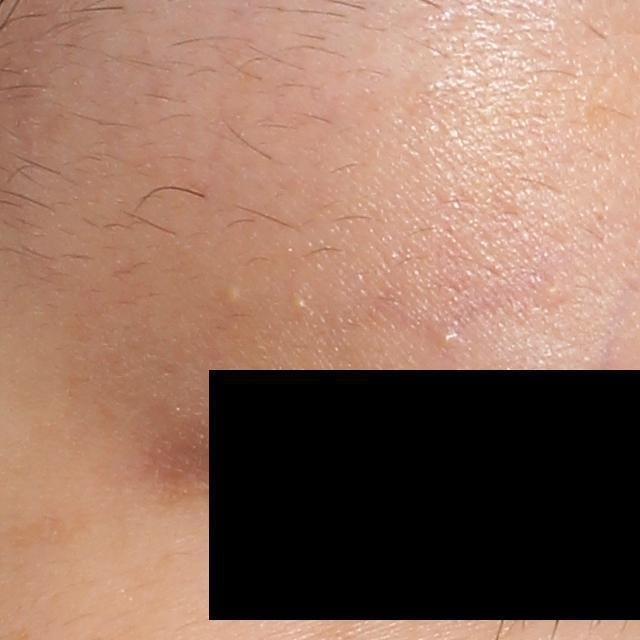melasma: (0, 505, 101, 549)
other: (217, 281, 242, 305), (289, 295, 307, 309)
